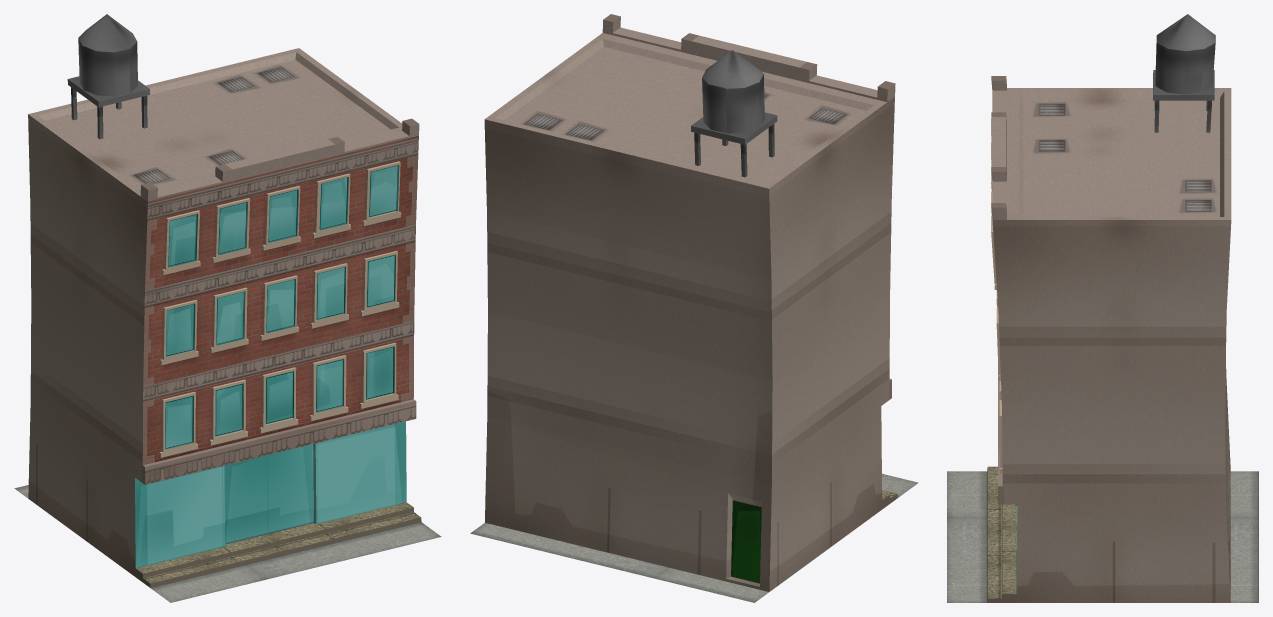
File: Residential Block A.fbx
3 renders of one model, left to right at view 1: azimuth 30°, elevation 25°; view 2: azimuth 150°, elevation 25°; view 3: azimuth 270°, elevation 25°, orthographic. The views are drawn at different scales.
Parts seen in each view (by area): view 1: resblock; view 2: resblock; view 3: resblock.
Boxes of the visible parts, x1=… form: resblock: x1=14, y1=14, x2=441, y2=602; resblock: x1=470, y1=14, x2=918, y2=602; resblock: x1=947, y1=14, x2=1258, y2=602.
Size of the model in its own units: 10 by 17.16 by 10.
Materials: 1 (1 with a texture image).
